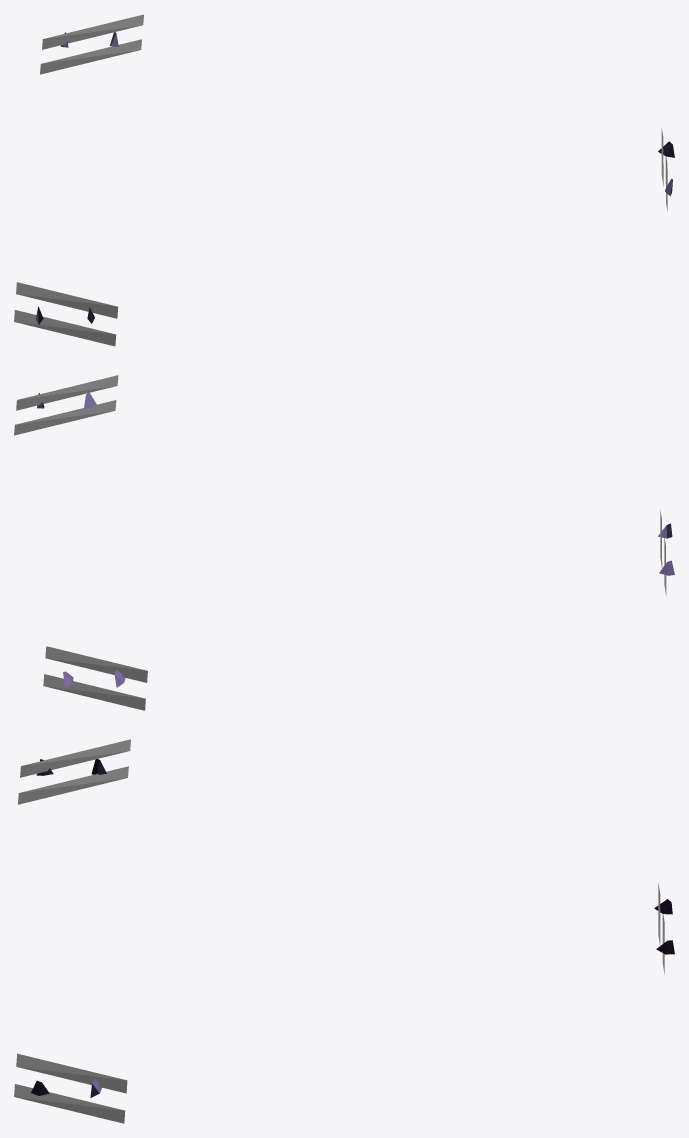
Rendered from vein_rock_a_mined_obsidian_low.glb.
The picture shows the model from 3 angles, top to bottom: view 1: azimuth 30°, elevation 25°; view 2: azimuth 150°, elevation 25°; view 3: azimuth 270°, elevation 25°; orthographic projection. The views are drawn at different scales.
Bounding box in the file's own units: 1.41 × 0.0783 × 1.14.
